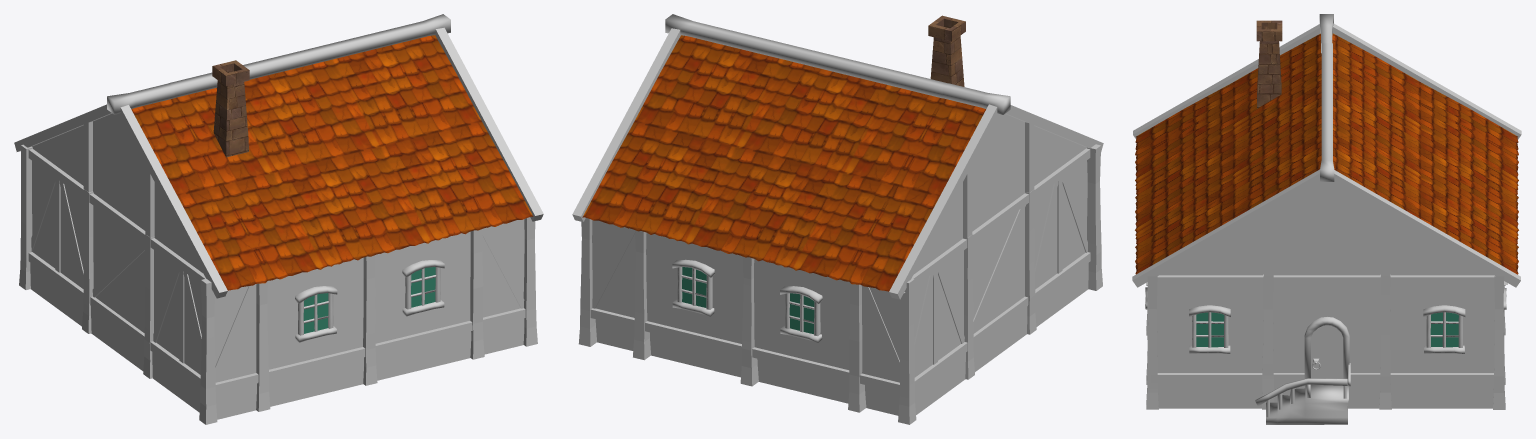
The model's file is house3_before.fbx.
3 views of the same model, side by side, from view 1: azimuth 30°, elevation 25°; view 2: azimuth 150°, elevation 25°; view 3: azimuth 270°, elevation 25° (orthographic). The views are drawn at different scales.
Parts seen in each view (by area): view 1: TopTileMidS.018; view 2: TopTileMidS.018; view 3: TopTileMidS.018.
Boxes of the visible parts, x1=… form: TopTileMidS.018: x1=14, y1=14, x2=543, y2=424; TopTileMidS.018: x1=572, y1=14, x2=1103, y2=424; TopTileMidS.018: x1=1132, y1=14, x2=1521, y2=424.
Bounding box in the file's own units: 18174 × 13657 × 17691.
